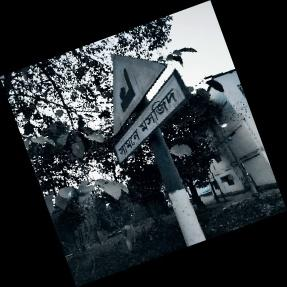Mosque in front: (110, 53, 193, 165)
